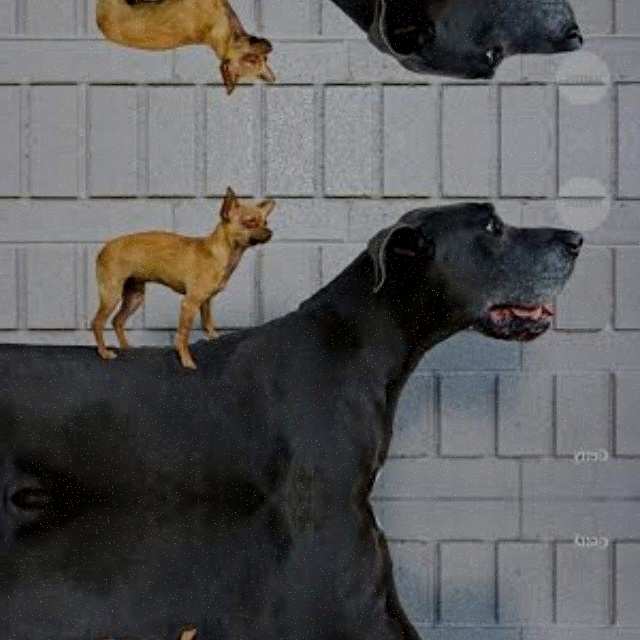dog: (364, 180, 592, 360), (364, 0, 592, 100), (204, 22, 298, 106), (204, 175, 298, 258), (364, 637, 592, 640)
